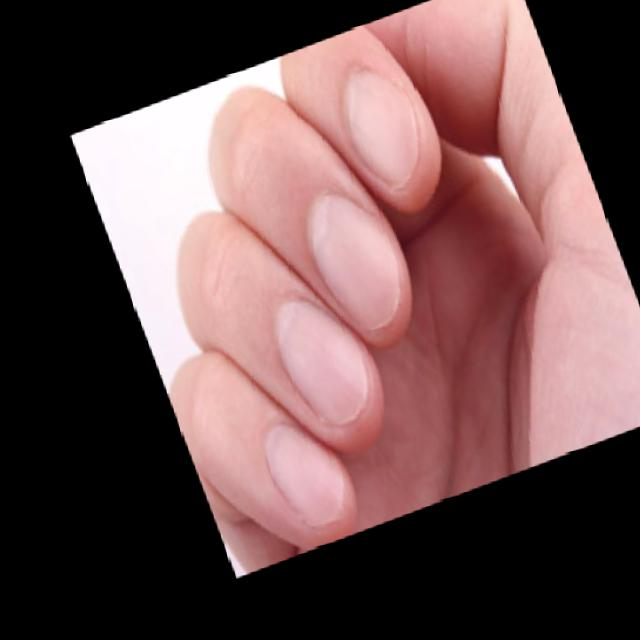Nail: (307, 194, 403, 330), (274, 299, 366, 423), (264, 425, 350, 526), (342, 69, 416, 182)
